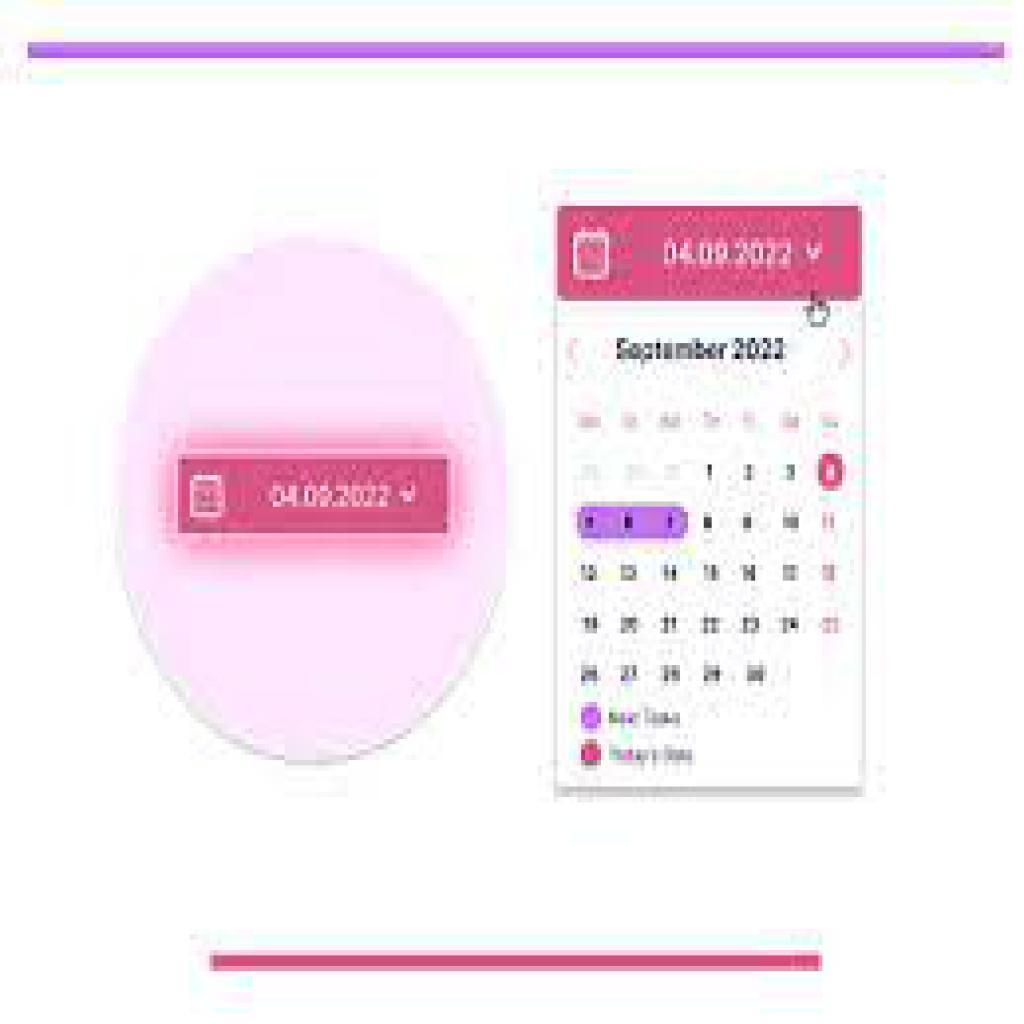dropdown: (557, 205, 863, 299), (180, 455, 449, 531)
